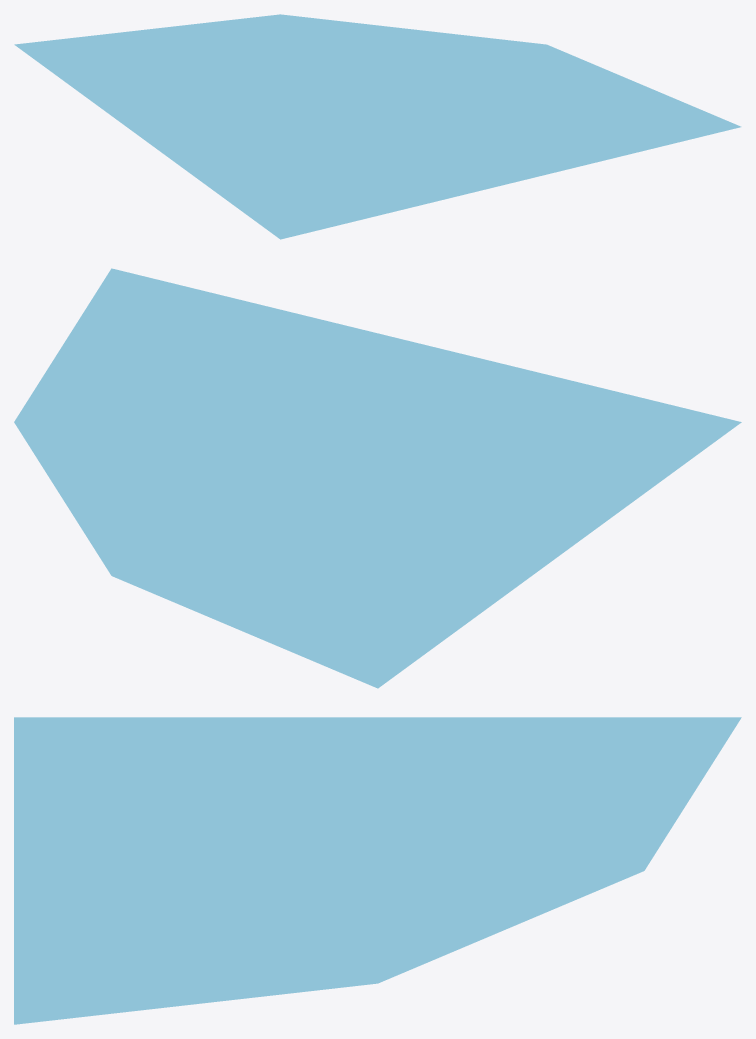
The model's file is Hilly_Terrain_Water_Curve.glb.
The picture shows the model from 3 angles, top to bottom: view 1: azimuth 30°, elevation 25°; view 2: azimuth 150°, elevation 25°; view 3: azimuth 270°, elevation 25°; orthographic projection. The views are drawn at different scales.
Visible parts, largest first — view 1: Hilly_Terrain_Water_Curve; view 2: Hilly_Terrain_Water_Curve; view 3: Hilly_Terrain_Water_Curve.
Boxes of the visible parts, bbox=[...] form: Hilly_Terrain_Water_Curve: bbox=[14, 14, 741, 239]; Hilly_Terrain_Water_Curve: bbox=[14, 268, 741, 688]; Hilly_Terrain_Water_Curve: bbox=[14, 717, 741, 1024].
Bounding box in the file's own units: 2 × 0 × 2.
